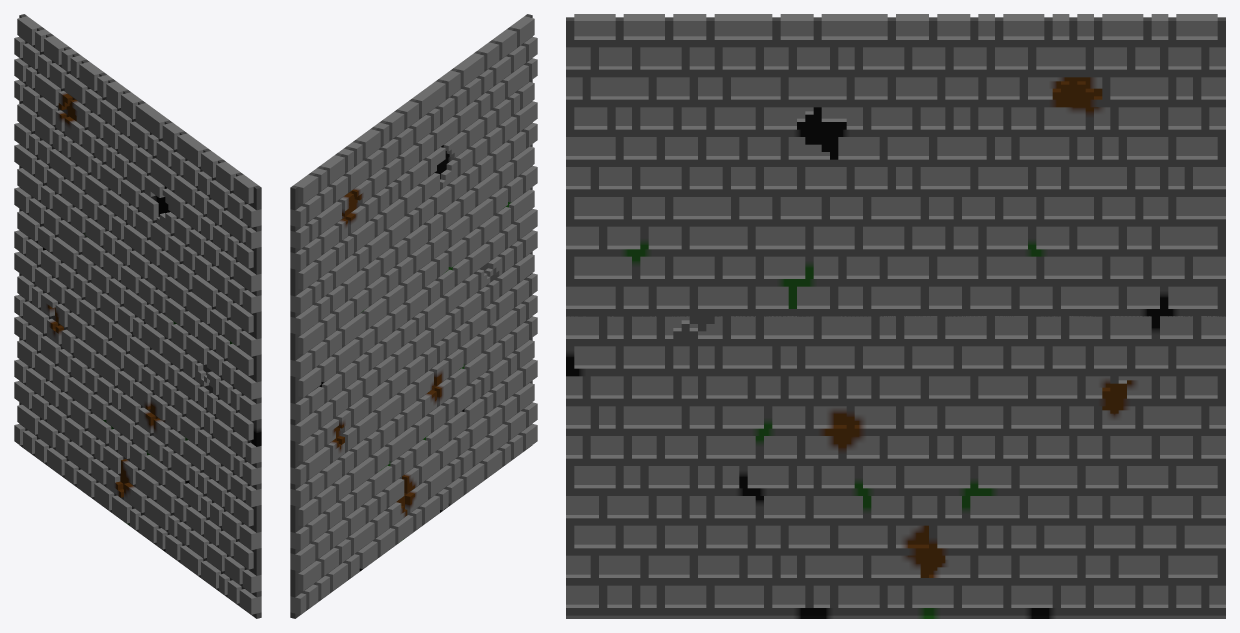
File: Large wall.fbx
3 renders of one model, left to right at view 1: azimuth 30°, elevation 25°; view 2: azimuth 150°, elevation 25°; view 3: azimuth 270°, elevation 25°, orthographic. The views are drawn at different scales.
Visible parts, largest first — view 1: Largewall; view 2: Largewall; view 3: Largewall.
Part boxes in pixels (<box>): Largewall: <box>14,14,261,618</box>; Largewall: <box>290,14,537,618</box>; Largewall: <box>566,14,1225,618</box>.
Bounding box in the file's own units: 10 × 400 × 400.
